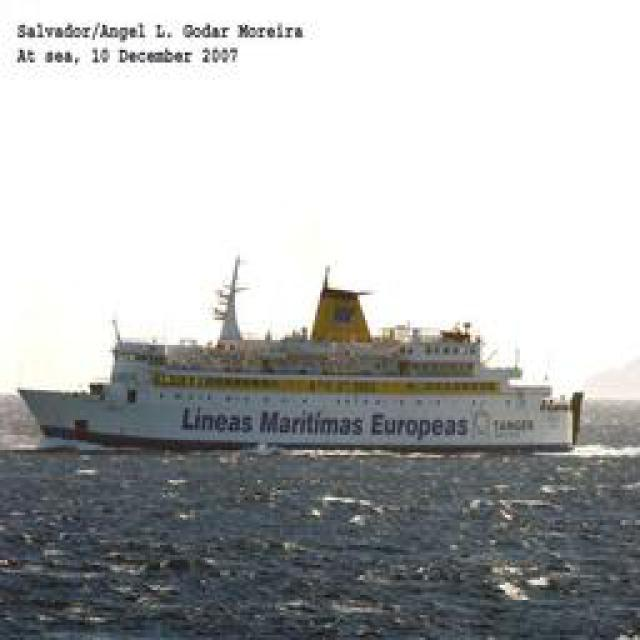Ship: (14, 335, 579, 455)
